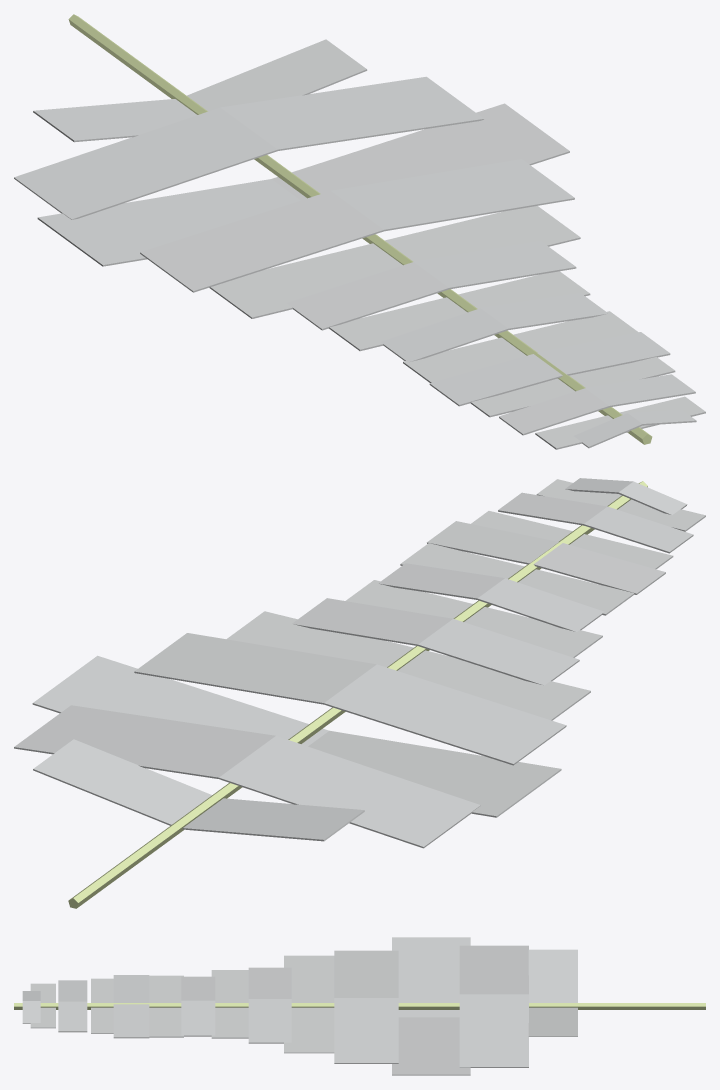
File: feather 1.fbx
3 views of the same model, one above another, from view 1: azimuth 30°, elevation 25°; view 2: azimuth 150°, elevation 25°; view 3: azimuth 270°, elevation 25° (orthographic). The views are drawn at different scales.
Parts seen in each view (by area): view 1: Cylinder; view 2: Cylinder; view 3: Cylinder.
Boxes of the visible parts, x1,y1,x2,y2 form: Cylinder: (14, 14, 705, 449); Cylinder: (14, 478, 705, 908); Cylinder: (14, 937, 705, 1075).
Bounding box in the file's own units: 319 × 26.65 × 678.
